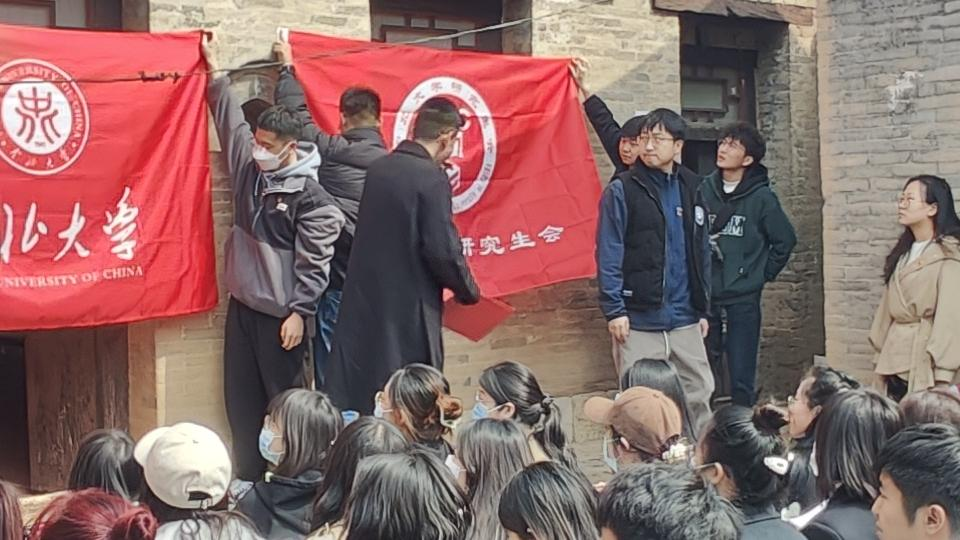persion: (871, 464, 944, 540), (249, 121, 291, 173), (642, 124, 682, 167), (895, 180, 935, 222), (589, 511, 641, 540), (716, 135, 753, 174), (616, 132, 647, 170)
